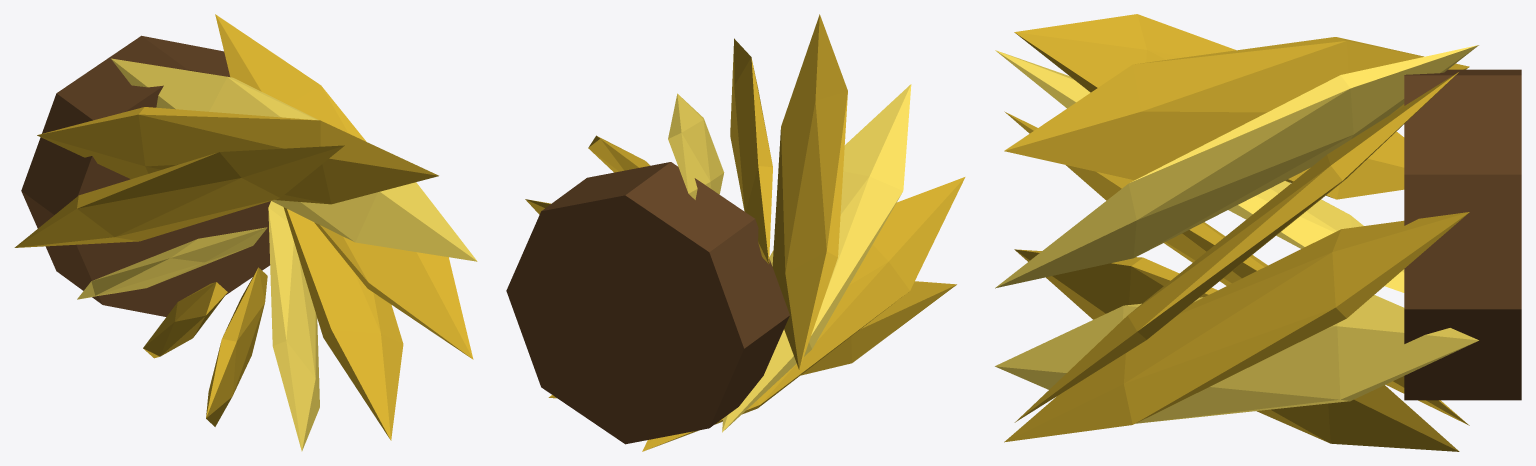
The model's file is 3_growing.obj.
The picture shows the model from 3 angles, left to right: view 1: azimuth 30°, elevation 25°; view 2: azimuth 150°, elevation 25°; view 3: azimuth 270°, elevation 25°; orthographic projection. The views are drawn at different scales.
Visible parts, largest first — view 1: torstol_3_growing; view 2: torstol_3_growing; view 3: torstol_3_growing.
Boxes of the visible parts, x1,y1,x2,y2 form: torstol_3_growing: (14, 14, 477, 451); torstol_3_growing: (506, 14, 965, 451); torstol_3_growing: (995, 14, 1521, 451).
Size of the model in its own units: 0.1511 by 0.1483 by 0.1797.
